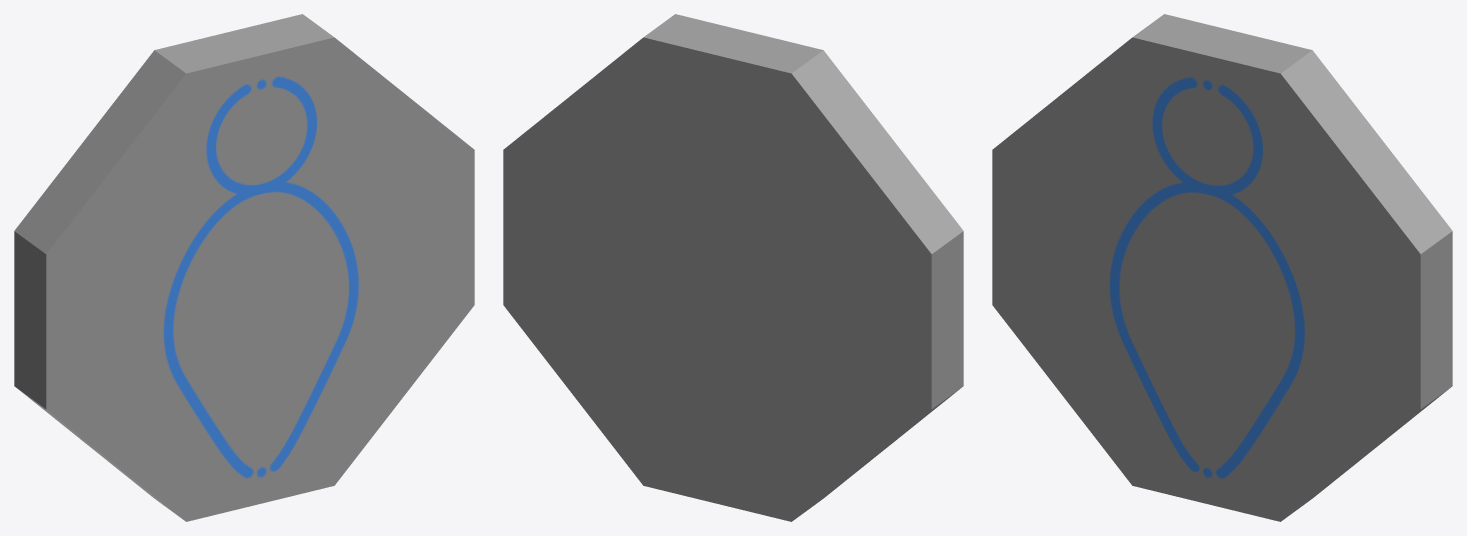
Rendered from Toiletmark2.fbx.
3 views of the same model, side by side, from view 1: azimuth 30°, elevation 25°; view 2: azimuth 150°, elevation 25°; view 3: azimuth 330°, elevation 25° (orthographic).
Visible parts, largest first — view 1: 立方体.017; view 2: 立方体.017; view 3: 立方体.017.
Boxes of the visible parts, x1,y1,x2,y2 form: 立方体.017: (14, 14, 474, 521); 立方体.017: (503, 14, 963, 521); 立方体.017: (992, 14, 1452, 521).
Size of the model in its own units: 87.04 by 87.04 by 11.25.
Materials: 1 (1 with a texture image).
